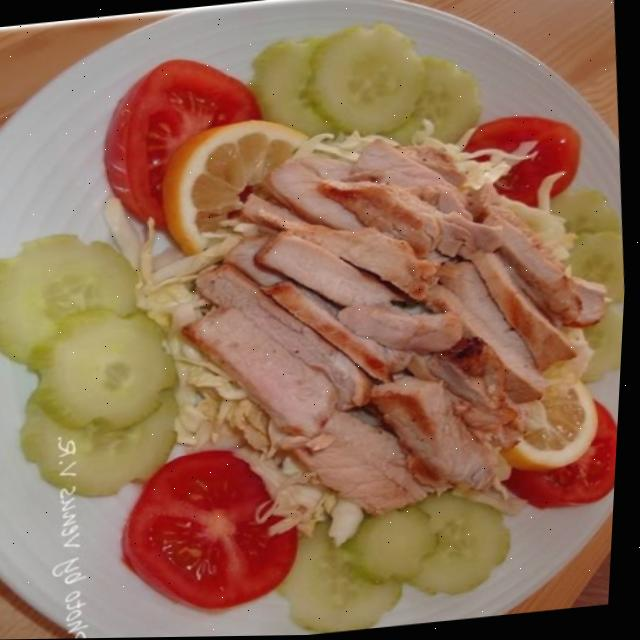猪肉菜式: (76, 43, 638, 607)
